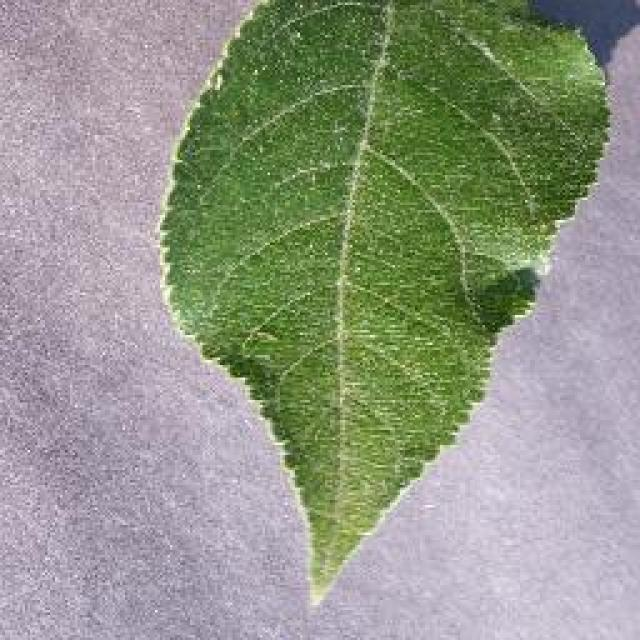apple healthy: (152, 0, 612, 605)
